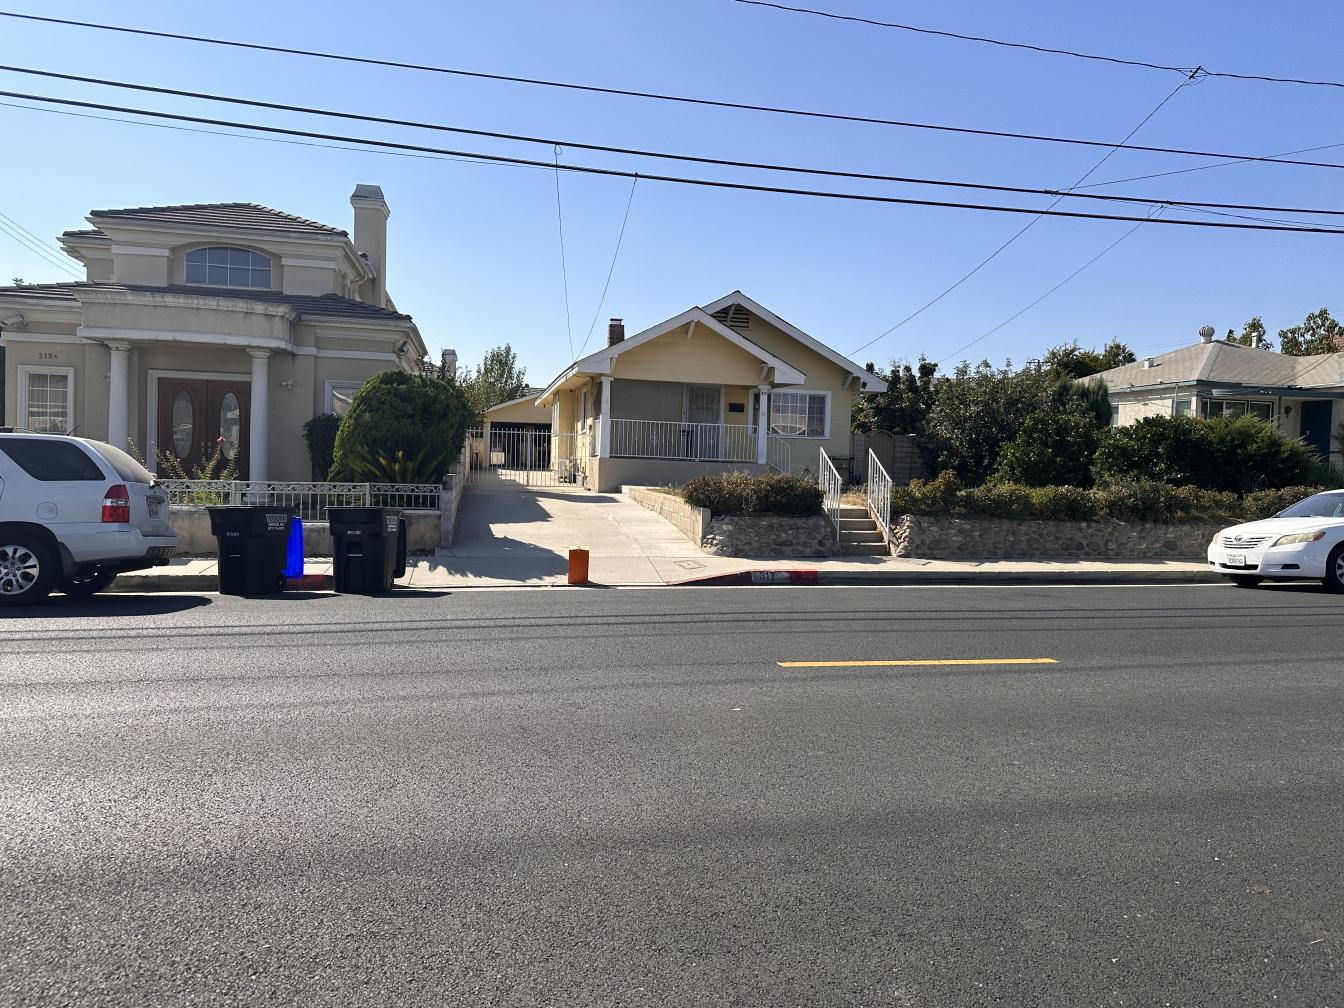curbs-laRr: (818, 571, 1206, 586)
orange box: (568, 545, 589, 584)
